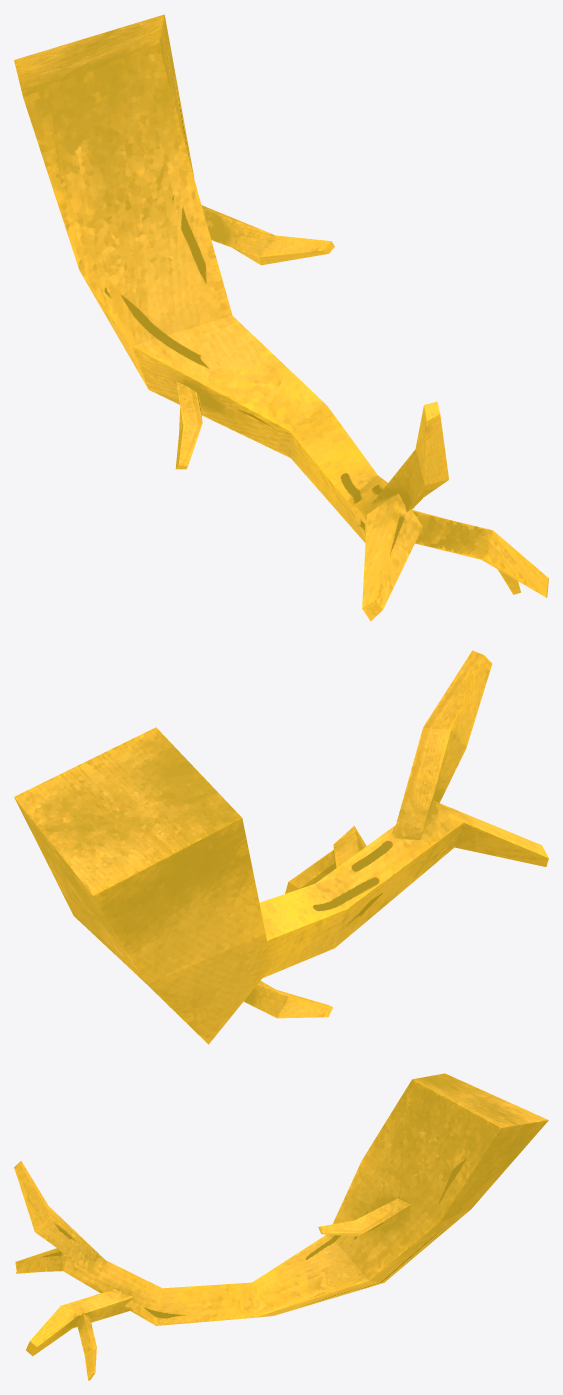
Rendered from hook_spot.glb.
3 renders of one model, top to bottom at view 1: azimuth 30°, elevation 25°; view 2: azimuth 150°, elevation 25°; view 3: azimuth 270°, elevation 25°, orthographic. The views are drawn at different scales.
Parts seen in each view (by area): view 1: Hook_Spot2; view 2: Hook_Spot2; view 3: Hook_Spot2.
Part boxes in pixels (bbox=[...]): Hook_Spot2: bbox=[14, 14, 548, 621]; Hook_Spot2: bbox=[14, 650, 548, 1044]; Hook_Spot2: bbox=[14, 1073, 548, 1380].
Bounding box in the file's own units: 1.59 × 2.67 × 4.89.
1 material, 1 textured.
